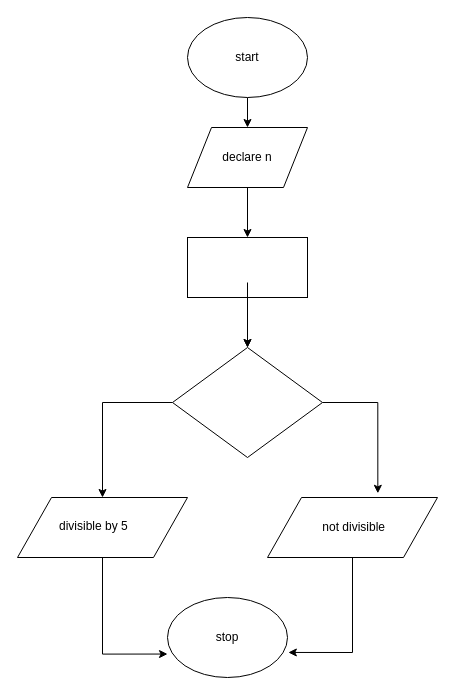
The diagram is 455 pixels wide and 695 high, and some of its shapes have lost their labels. The centre of each missing label's shape, as x and y in pixels:
"if n%5 == 0" belongs at (x=247, y=402).
"read n" belongs at (x=247, y=267).
